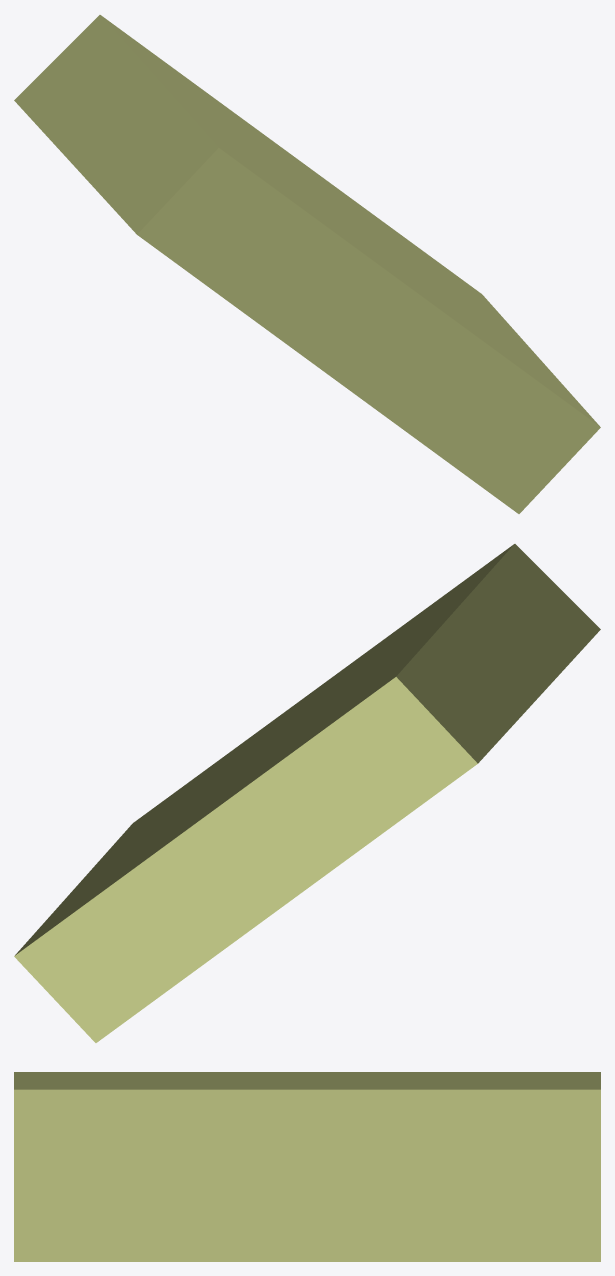
3 views of the same model, one above another, from view 1: azimuth 30°, elevation 25°; view 2: azimuth 150°, elevation 25°; view 3: azimuth 270°, elevation 25° (orthographic). The views are drawn at different scales.
Visible parts, largest first — view 1: 0_1_2_3_0_0_0_3_0; view 2: 0_1_2_3_0_0_0_3_0; view 3: 0_1_2_3_0_0_0_3_0.
Part boxes in pixels (left/top/right/bottom): 0_1_2_3_0_0_0_3_0: left=14, top=15, right=600, bottom=513; 0_1_2_3_0_0_0_3_0: left=14, top=544, right=600, bottom=1042; 0_1_2_3_0_0_0_3_0: left=14, top=1072, right=600, bottom=1261.
Size of the model in its own units: 2.79 by 2.98 by 9.
